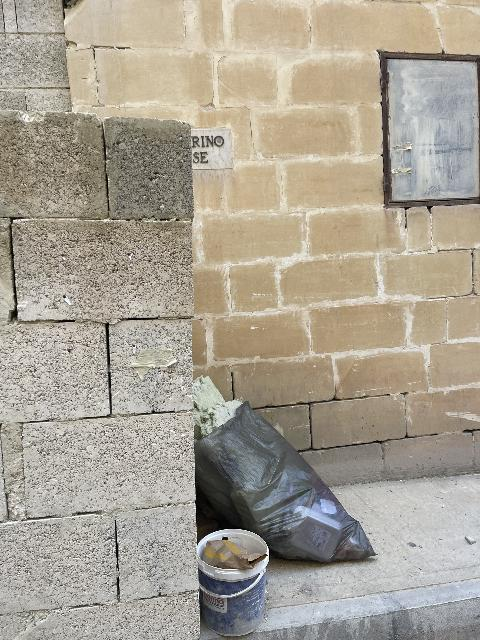Other: (197, 529, 269, 636)
Recyclable -Grey-: (195, 402, 376, 563)
